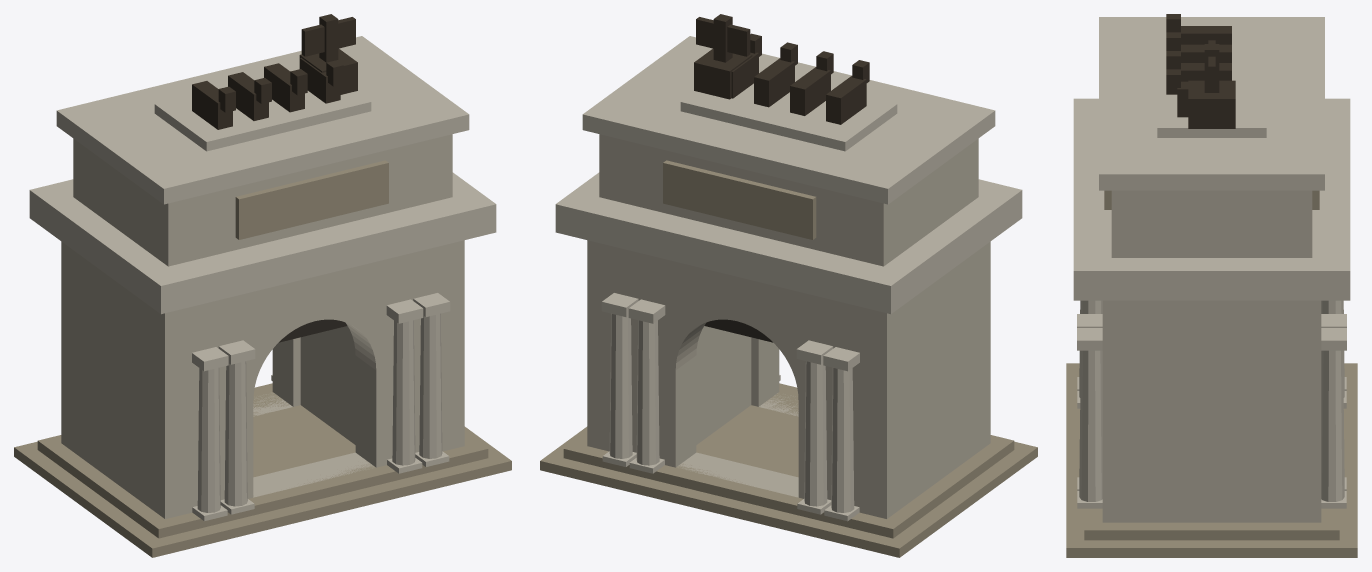
File: wellington_arch.glb
3 views of the same model, side by side, from view 1: azimuth 30°, elevation 25°; view 2: azimuth 150°, elevation 25°; view 3: azimuth 270°, elevation 25° (orthographic). The views are drawn at different scales.
Visible parts, largest first — view 1: wellington_arch; view 2: wellington_arch; view 3: wellington_arch.
Part boxes in pixels (x1,y1,x2,y2): wellington_arch: (14, 14, 511, 557); wellington_arch: (540, 14, 1037, 557); wellington_arch: (1066, 14, 1357, 557).
Size of the model in its own units: 24 by 27.4 by 16.
